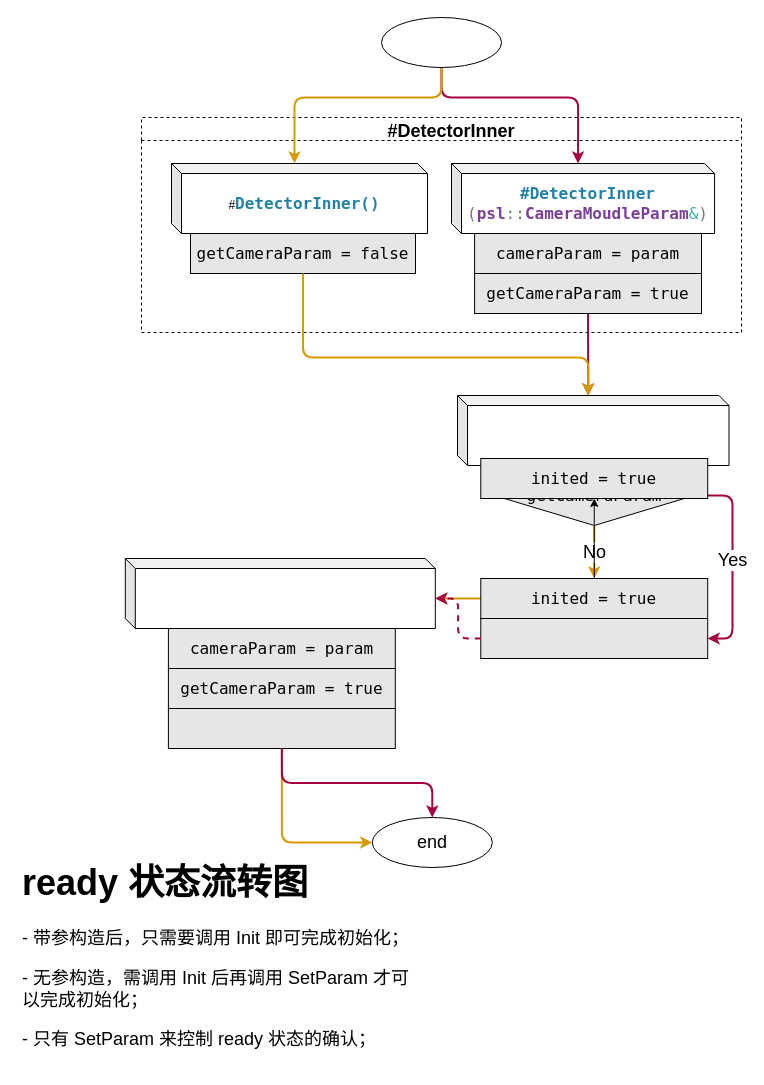
The diagram is 764 pixels wide and 1085 high, and some of its shapes have lost their labels. Each missing label, with the centre of its shape:
"# Init ( const psl :: DetectorParam & )" goes at (x=592, y=430).
"# SetParam ( const psl :: CameraMoudleParam & )" goes at (x=279, y=593).
"ready = inited" goes at (x=281, y=728).
"SetParam( cameraParam )" goes at (x=594, y=638).
"start" goes at (x=441, y=42).
